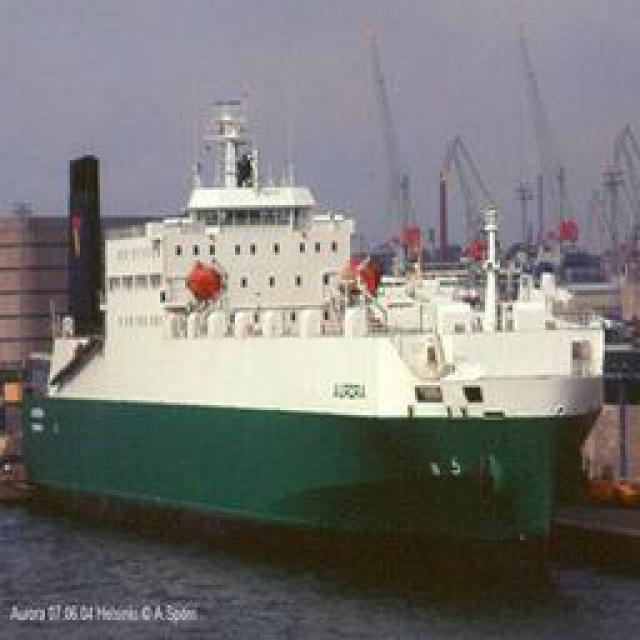Ship: (22, 74, 610, 537)
